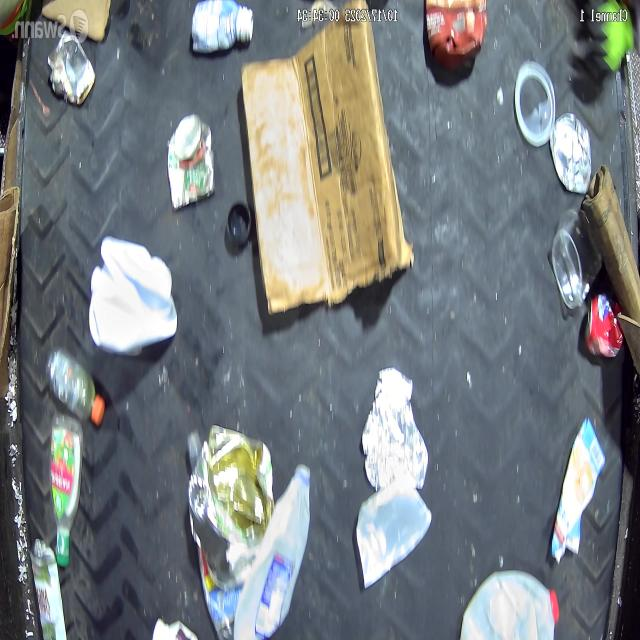can: (165, 113, 216, 210), (45, 27, 94, 107), (548, 110, 592, 198), (583, 288, 623, 360)
milk_jug: (233, 462, 312, 638), (88, 236, 178, 356), (458, 569, 560, 640)
non_white_jug: (426, 0, 486, 70)
plastic_bottle: (47, 416, 84, 566), (46, 349, 102, 423), (31, 539, 68, 640)
